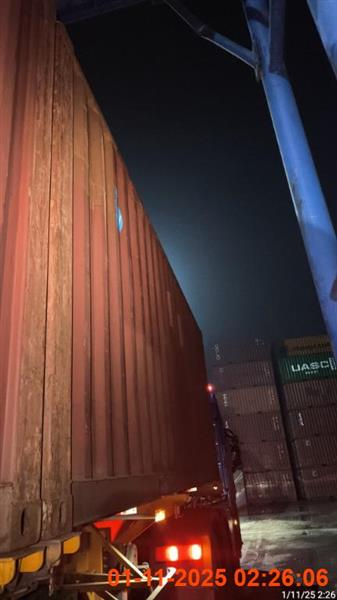broken: (1, 1, 245, 599)
